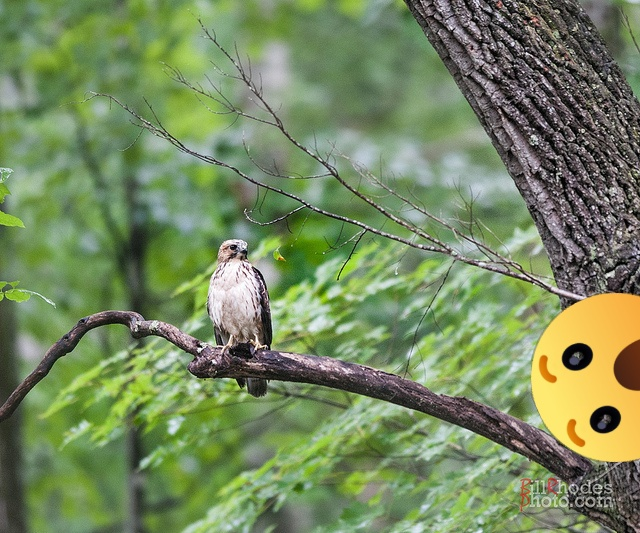wow: (531, 293, 640, 462)
